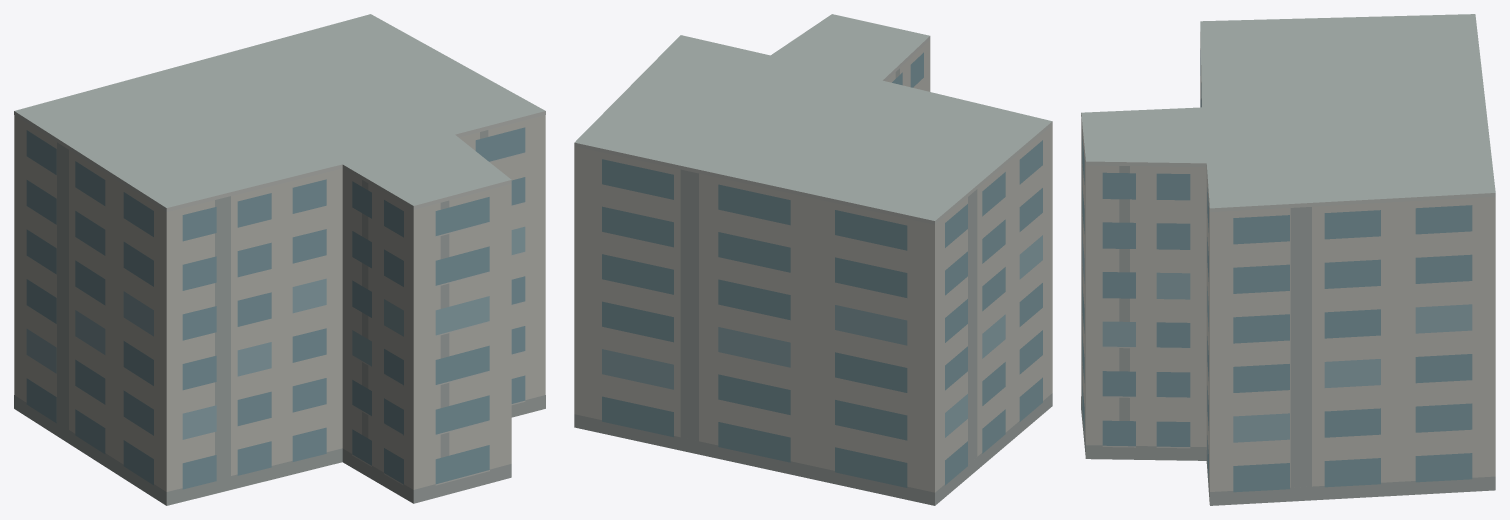
The model's file is survey-upis-33002859.glb.
3 renders of one model, left to right at view 1: azimuth 30°, elevation 25°; view 2: azimuth 150°, elevation 25°; view 3: azimuth 270°, elevation 25°, orthographic. The views are drawn at different scales.
Visible parts, largest first — view 1: survey-upis-33002859.tmp; view 2: survey-upis-33002859.tmp; view 3: survey-upis-33002859.tmp.
Boxes of the visible parts, bbox=[...] form: survey-upis-33002859.tmp: bbox=[14, 14, 545, 505]; survey-upis-33002859.tmp: bbox=[574, 14, 1052, 505]; survey-upis-33002859.tmp: bbox=[1081, 14, 1495, 505].
Bounding box in the file's own units: 25.66 × 18.3 × 23.12.
